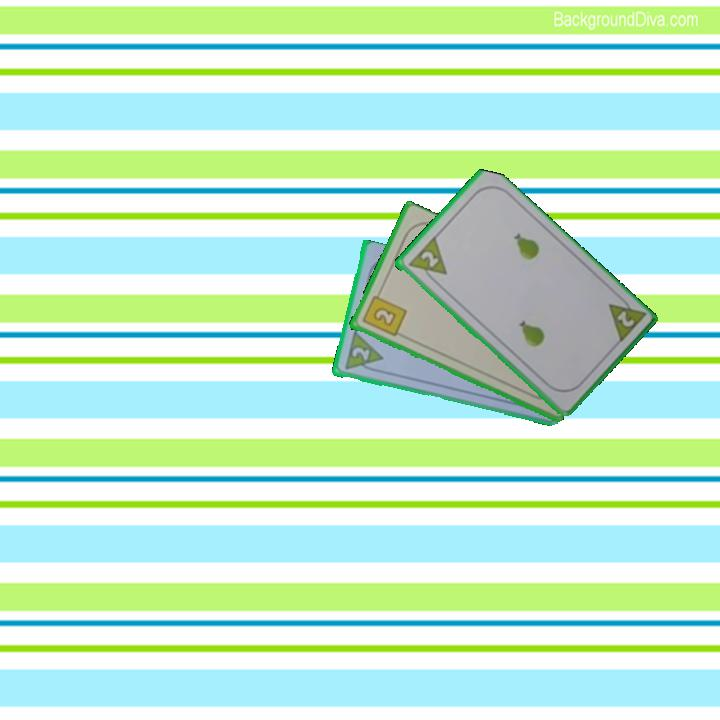2b: (358, 287, 409, 340)
2p: (416, 247, 441, 270), (613, 307, 637, 330), (348, 343, 372, 363)
